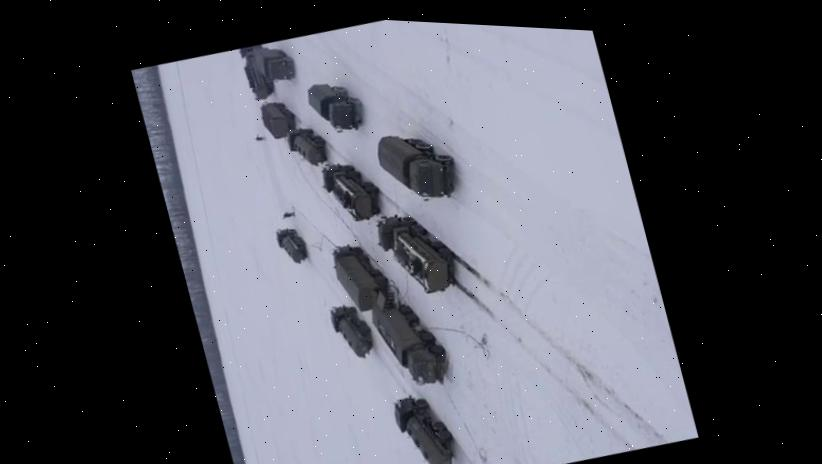person: (279, 208, 296, 219), (253, 132, 265, 142)
truck: (371, 200, 460, 304), (367, 290, 453, 397), (371, 118, 462, 211), (388, 385, 463, 464), (317, 152, 386, 230), (328, 235, 394, 316), (303, 72, 368, 139), (326, 297, 379, 366), (282, 120, 331, 172), (249, 36, 298, 87), (237, 43, 275, 103), (257, 95, 299, 141), (273, 221, 311, 268)
